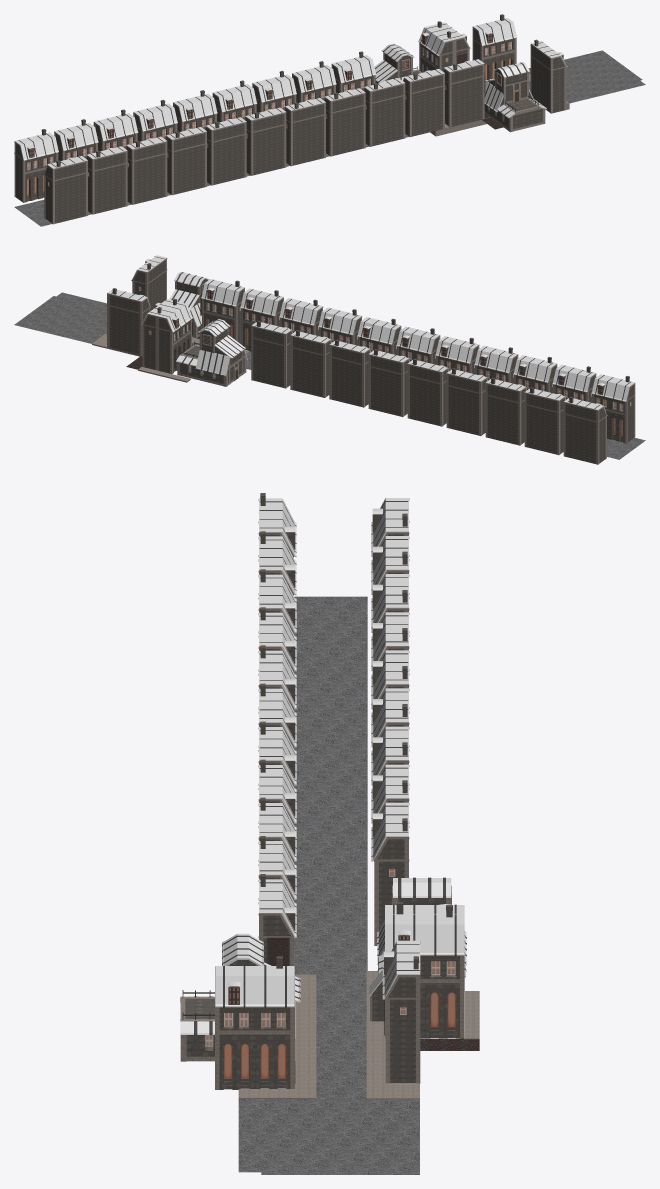
Rendered from TestMergedStreet01.fbx.
3 renders of one model, top to bottom at view 1: azimuth 30°, elevation 25°; view 2: azimuth 150°, elevation 25°; view 3: azimuth 270°, elevation 25°, orthographic. The views are drawn at different scales.
Parts seen in each view (by area): view 1: Plane.011; view 2: Plane.011; view 3: Plane.011.
Boxes of the visible parts, x1,y1,x2,y2 form: Plane.011: (14,14,645,226); Plane.011: (14,255,645,464); Plane.011: (180,493,479,1174).
Bounding box in the file's own units: 12141 × 1284 × 2657.
10 materials, 9 textured.
